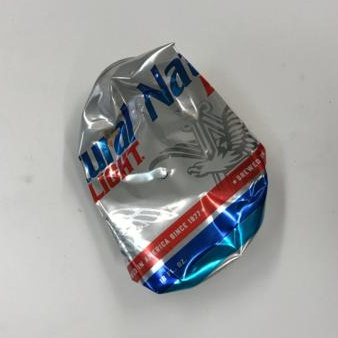Metal: (59, 39, 273, 293)
